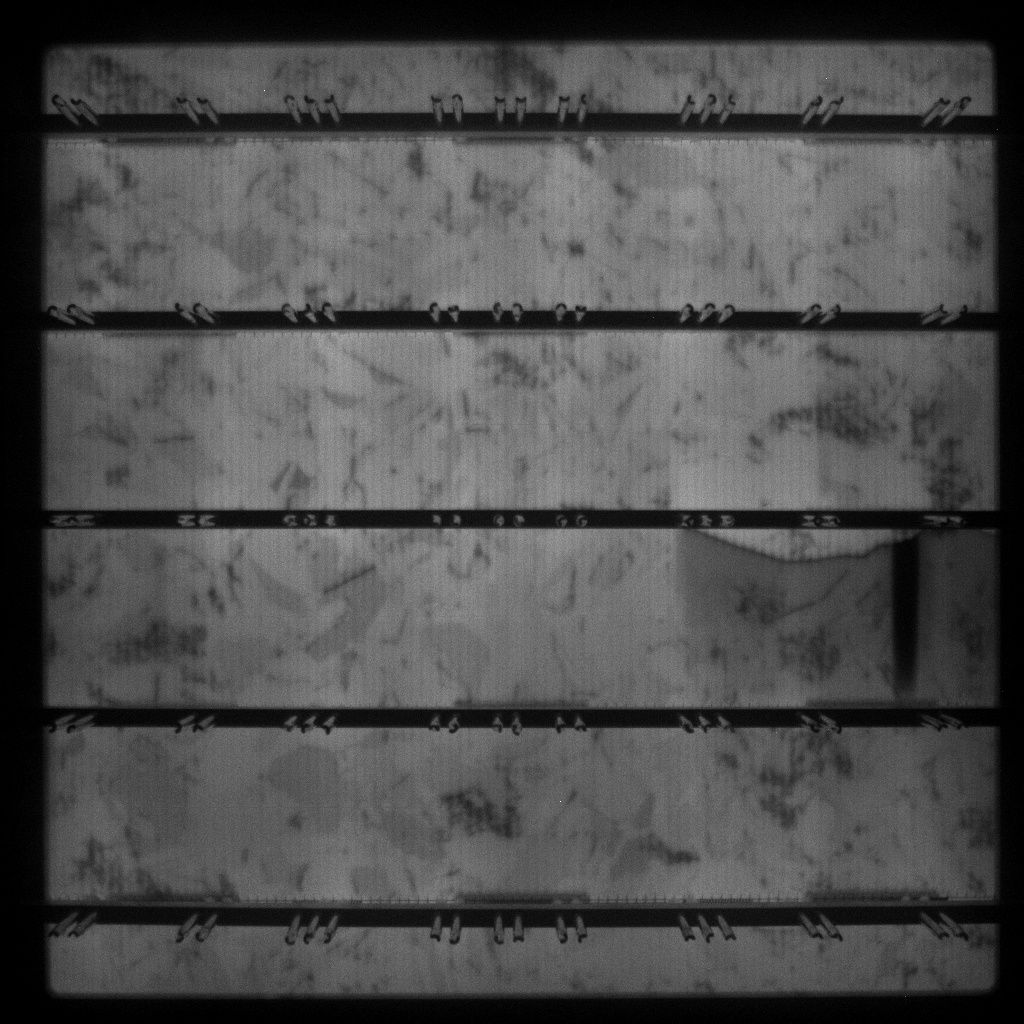crack: (690, 532, 930, 567)
